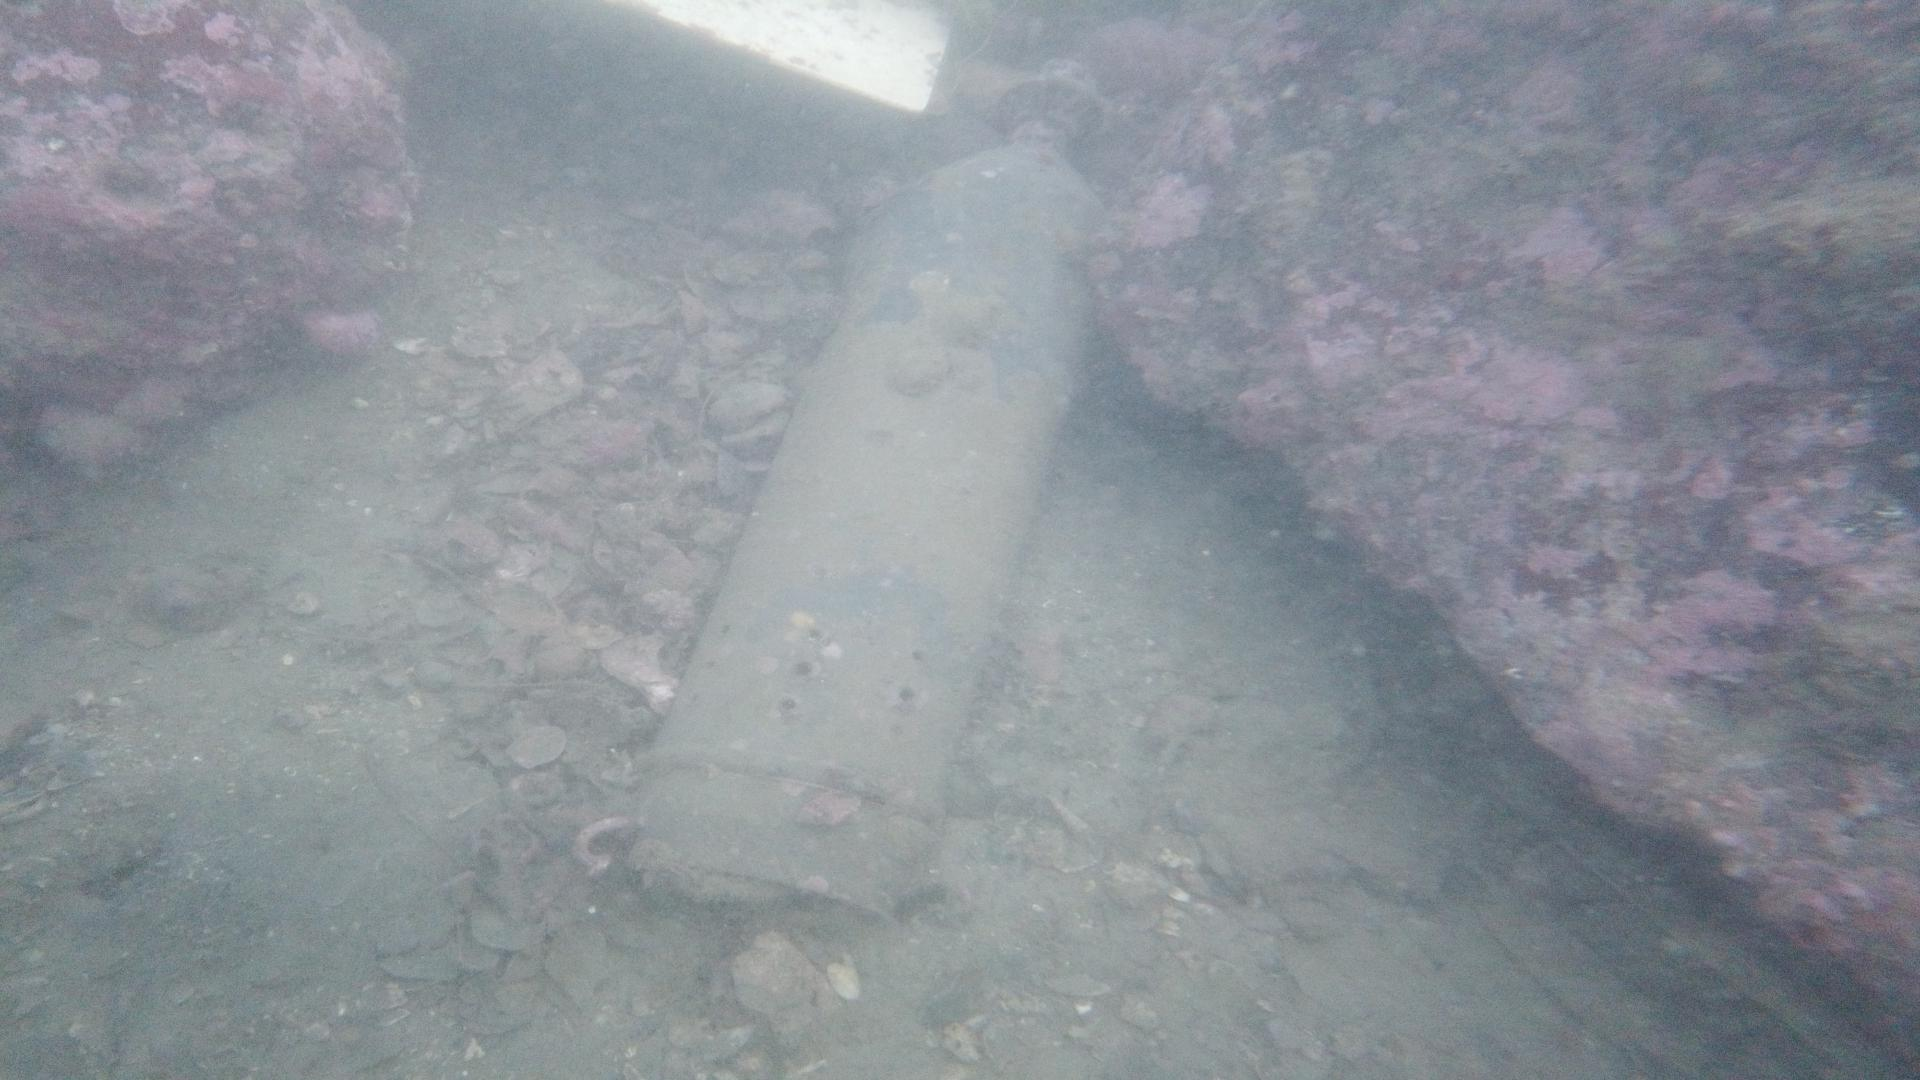eel fish trap: (615, 44, 1122, 920)
